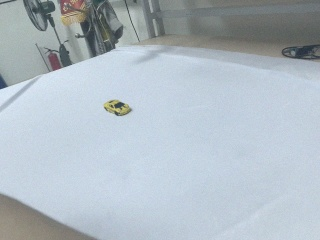toy_car: (104, 99, 131, 116)
